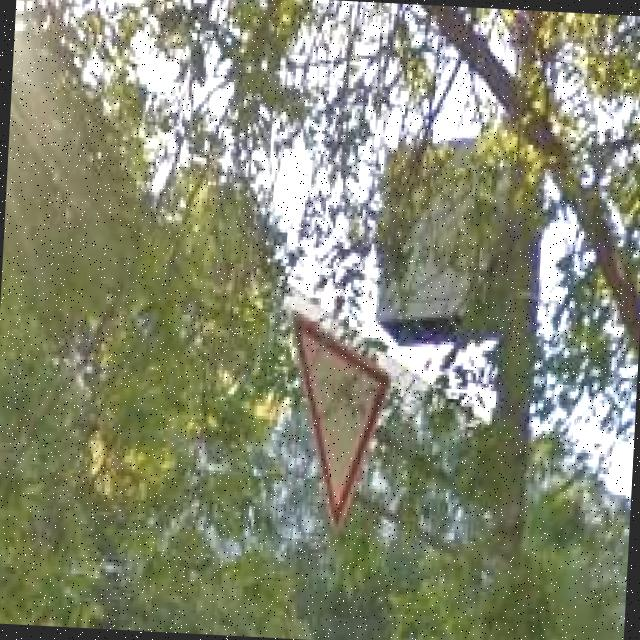Ustap pierwszenstwa: (277, 306, 397, 536)
